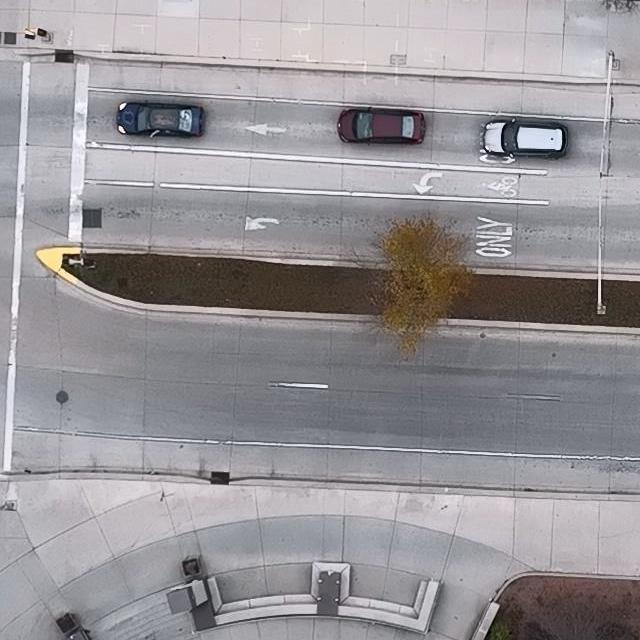car: (483, 118, 568, 159), (337, 107, 426, 146), (116, 100, 204, 139)
